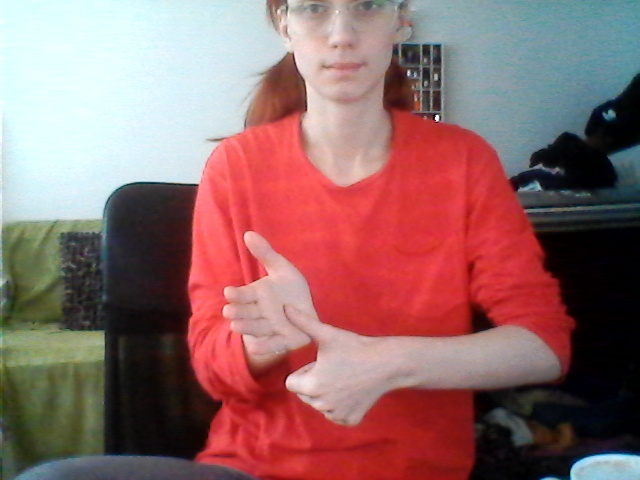pivo: (217, 221, 389, 436)
